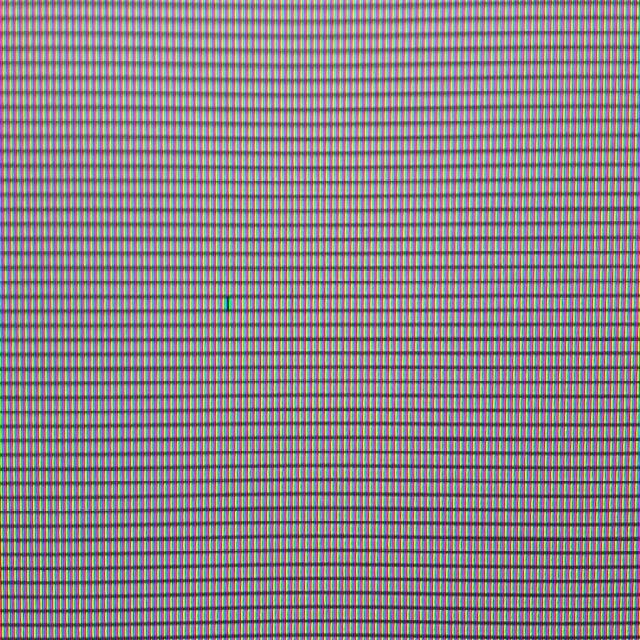Dead pixel: (224, 296, 230, 314)
